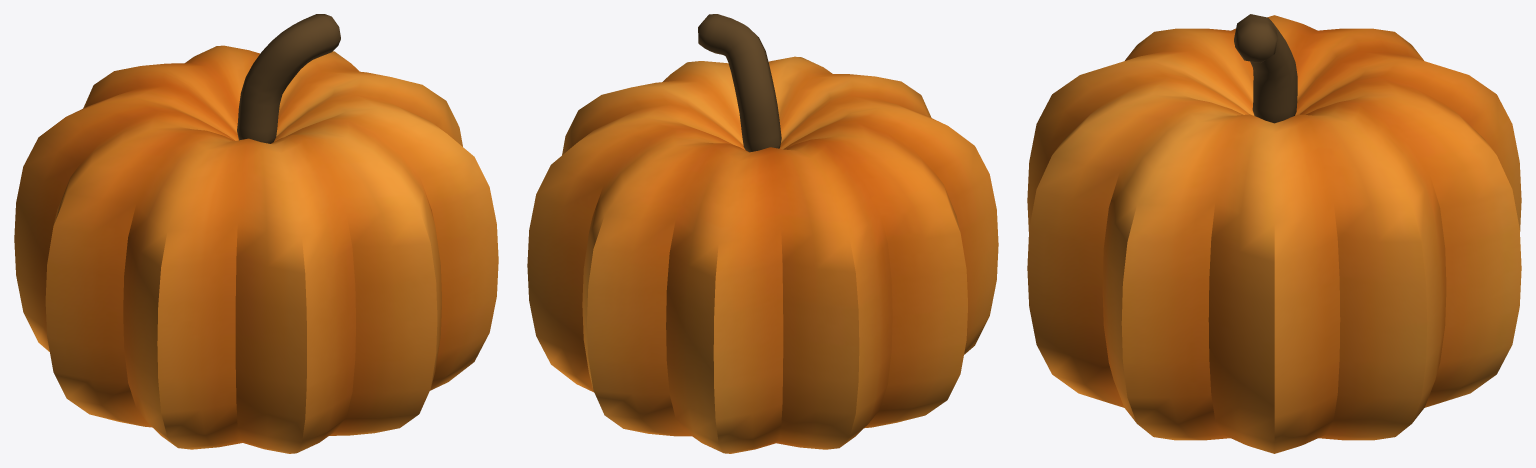
The model's file is veg_pumpkin_ribbed.glb.
3 renders of one model, left to right at view 1: azimuth 30°, elevation 25°; view 2: azimuth 150°, elevation 25°; view 3: azimuth 270°, elevation 25°, orthographic. The views are drawn at different scales.
Visible parts, largest first — view 1: veg_pumpkin_ribbed; view 2: veg_pumpkin_ribbed; view 3: veg_pumpkin_ribbed.
Part boxes in pixels (<box>): veg_pumpkin_ribbed: <box>14,14,498,453</box>; veg_pumpkin_ribbed: <box>527,14,998,453</box>; veg_pumpkin_ribbed: <box>1027,14,1521,453</box>.
Size of the model in its own units: 0.286 by 0.2416 by 0.272.
2 materials, 1 textured.
